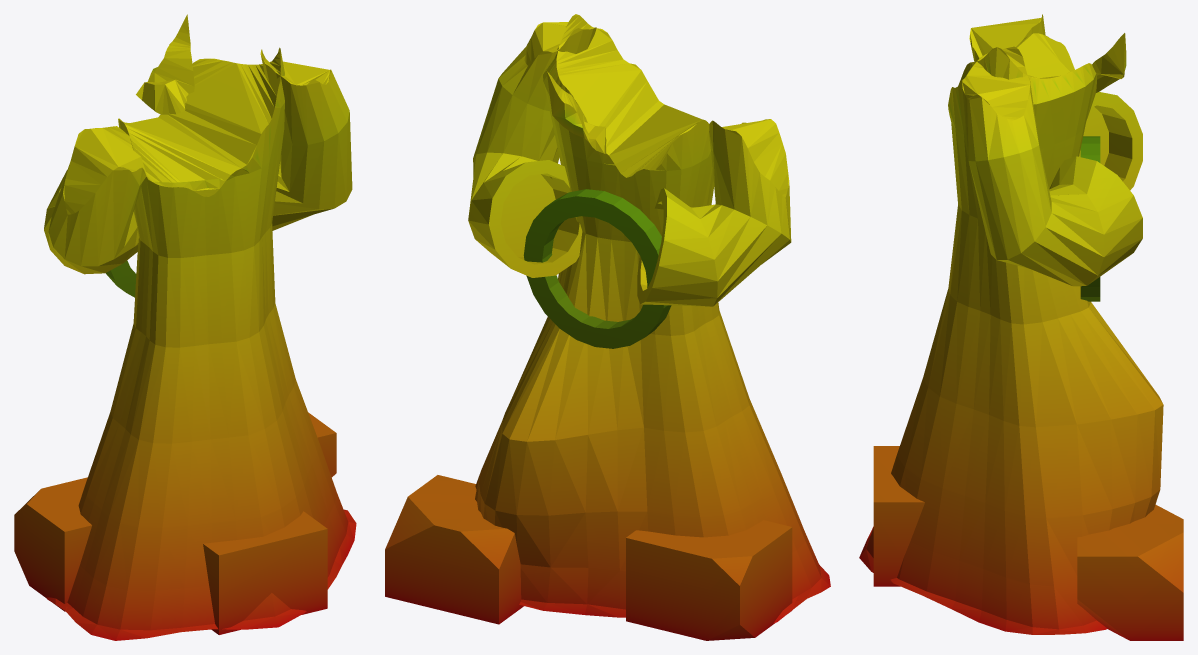
File: statue_kneel_broken.glb
3 views of the same model, side by side, from view 1: azimuth 30°, elevation 25°; view 2: azimuth 150°, elevation 25°; view 3: azimuth 270°, elevation 25° (orthographic). The views are drawn at different scales.
Visible parts, largest first — view 1: statue_kneel_broken; view 2: statue_kneel_broken; view 3: statue_kneel_broken.
Boxes of the visible parts, <box> form: statue_kneel_broken: <box>14,14,356,640</box>; statue_kneel_broken: <box>385,14,830,640</box>; statue_kneel_broken: <box>859,14,1183,640</box>.
Size of what is drawn, in the model's own units: 1.61 by 2.5 by 1.35.
